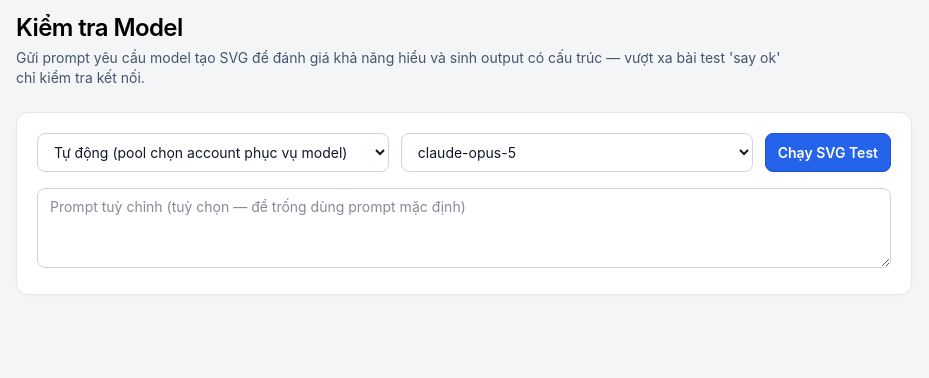
Test: ModelTestView › shows network error
Click the button "Chạy SVG Test": (828, 152) [765,133,891,172]
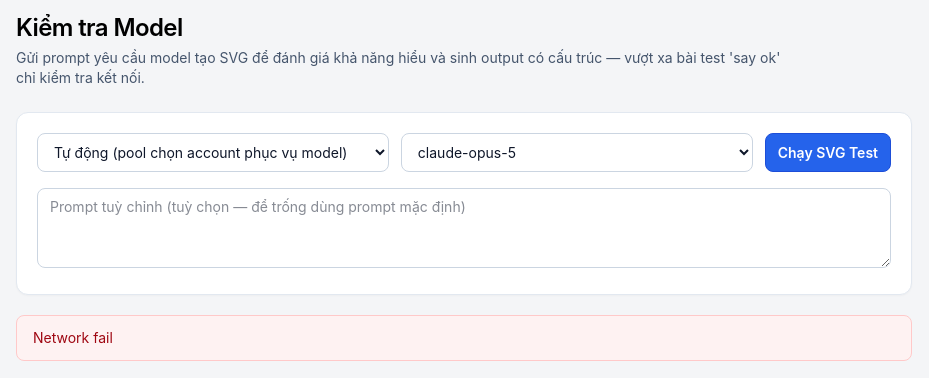
Expected: the text "Network fail" is shown, [16,315,912,361]
